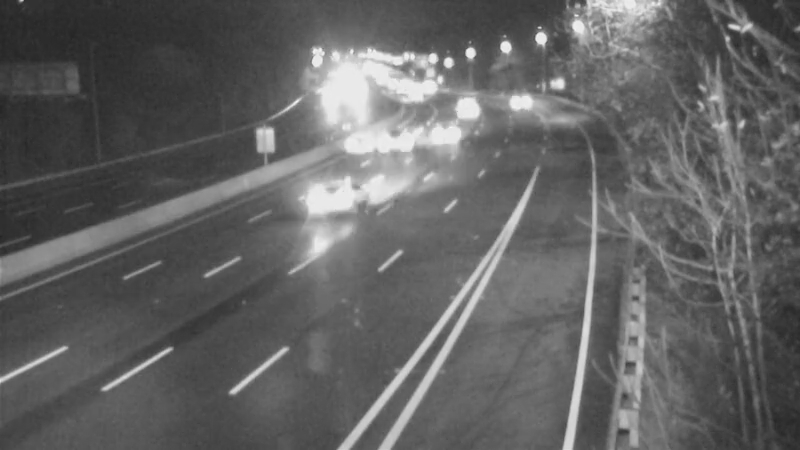vehicle: (296, 155, 376, 235), (390, 70, 440, 120), (438, 83, 488, 133), (494, 79, 544, 129), (425, 107, 475, 157), (375, 121, 425, 171), (331, 119, 381, 169)
